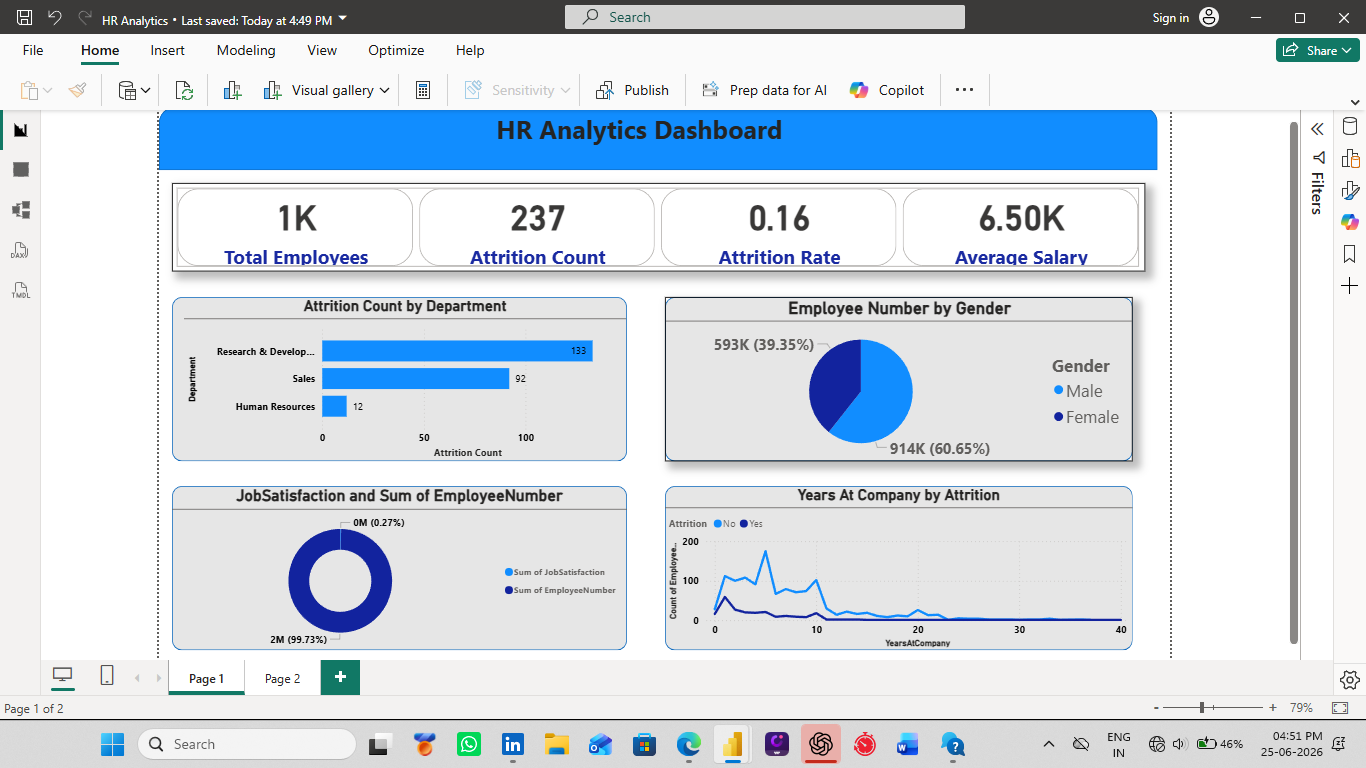

The page's visual inventory and layout, read from the dashboard file:
{"tool":"powerbi","page":{"name":"Page 1","canvas":[1280,720],"ordinal":0},"visuals":[{"type":"cardVisual","fields":{"Data":["HR_Data.Total Employees","HR_Data.Attrition Count","HR_Data.Attrition Rate","HR_Data.Average Salary"]},"box":[16,96,1232,128],"z":0},{"type":"shape","box":[0,0,1264,80],"z":1000},{"type":"textbox","box":[96,0,1024,80],"z":2000},{"type":"shape","box":[16,240,576,208],"z":3000},{"type":"clusteredBarChart","fields":{"Category":["HR_Data.Department"],"Y":["HR_Data.Attrition Count"]},"box":[32,240,560,208],"z":4000},{"type":"shape","box":[640,240,592,208],"z":5000},{"type":"pieChart","title":"Employee Number by Gender","fields":{"Category":["HR_Data.Gender"],"Y":["Sum(HR_Data.EmployeeNumber)"]},"box":[640,240,592,208],"z":6000},{"type":"shape","box":[16,480,576,208],"z":7000},{"type":"donutChart","title":" JobSatisfaction and Sum of EmployeeNumber","fields":{"Y":["Sum(HR_Data.JobSatisfaction)","Sum(HR_Data.EmployeeNumber)"]},"box":[16,480,576,208],"z":8000},{"type":"shape","box":[640,480,592,208],"z":9000},{"type":"lineChart","title":" Years At Company by Attrition","fields":{"Category":["HR_Data.YearsAtCompany"],"Y":["Count(HR_Data.EmployeeNumber)"],"Series":["HR_Data.Attrition"]},"box":[640,480,592,208],"z":10000}]}

Visuals, with their boxes on the page's 1280x720 design canvas (x1, y1, x2, y2). These are canvas units, not pixel positions in the 1366x768 screenshot, which may show the page scaled, cropped or inside an application window:
cardVisual - HR_Data.Total Employees x HR_Data.Attrition Count: x1=16, y1=96, x2=1248, y2=224
shape: x1=0, y1=0, x2=1264, y2=80
textbox: x1=96, y1=0, x2=1120, y2=80
shape: x1=16, y1=240, x2=592, y2=448
clusteredBarChart - HR_Data.Department x HR_Data.Attrition Count: x1=32, y1=240, x2=592, y2=448
shape: x1=640, y1=240, x2=1232, y2=448
"Employee Number by Gender" pieChart: x1=640, y1=240, x2=1232, y2=448
shape: x1=16, y1=480, x2=592, y2=688
" JobSatisfaction and Sum of EmployeeNumber" donutChart: x1=16, y1=480, x2=592, y2=688
shape: x1=640, y1=480, x2=1232, y2=688
" Years At Company by Attrition" lineChart: x1=640, y1=480, x2=1232, y2=688
